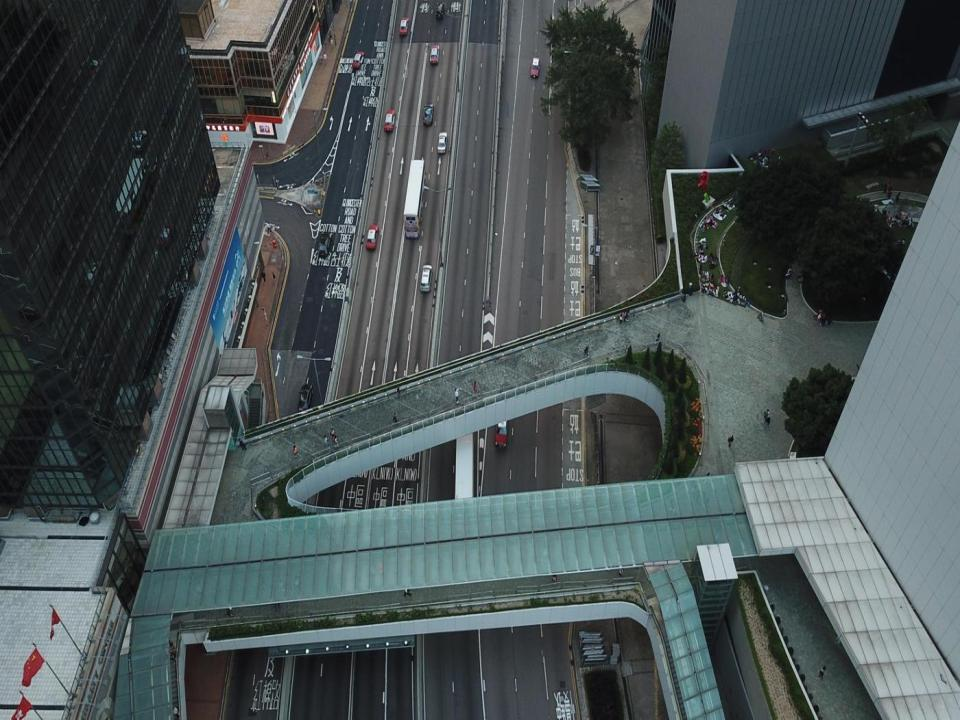bus: (403, 159, 425, 238)
car: (495, 411, 508, 448), (298, 385, 313, 413), (420, 264, 432, 292), (366, 224, 379, 249), (317, 236, 331, 256), (423, 103, 434, 124), (384, 109, 395, 130), (352, 51, 364, 70), (429, 44, 439, 65), (399, 16, 409, 36), (438, 132, 447, 154), (530, 56, 539, 78), (436, 1, 444, 17)
